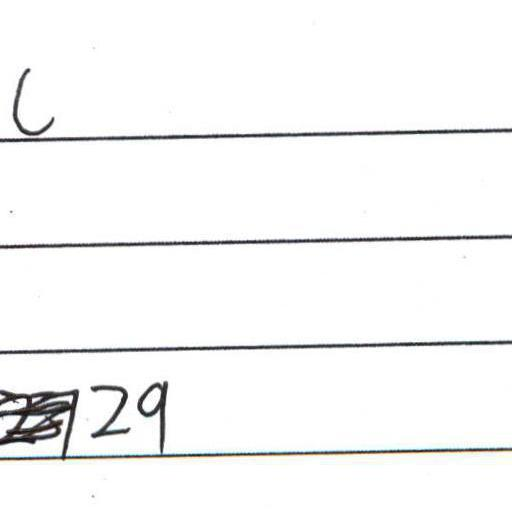ans: (85, 373, 170, 451), (6, 63, 57, 139)
